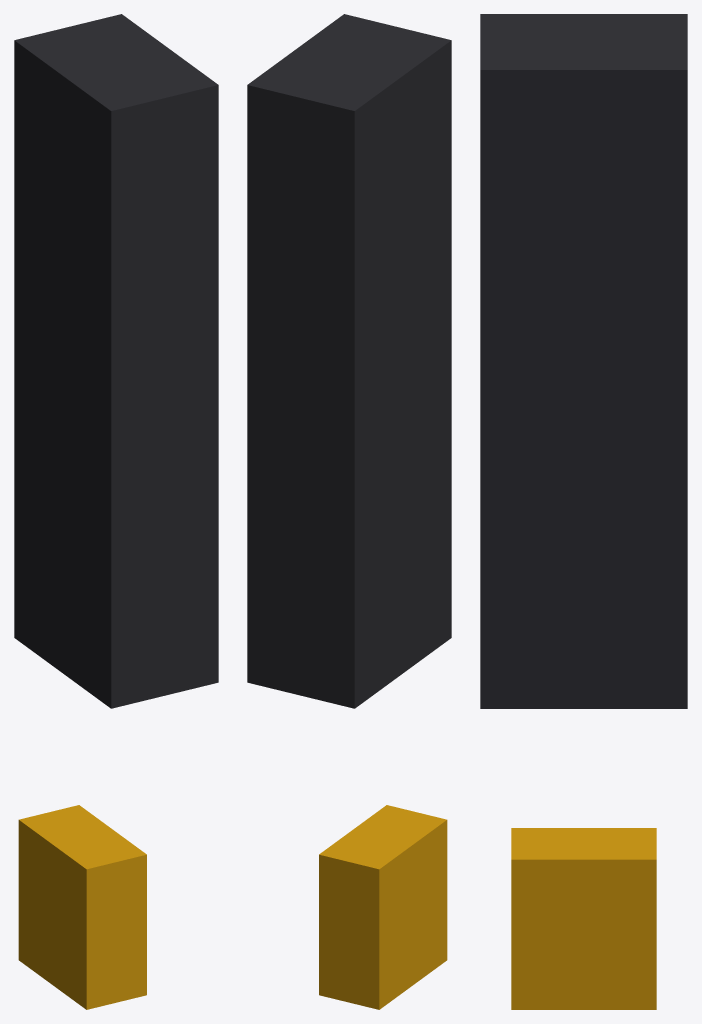
Rendered from gripper_finger_left.obj.
3 views of the same model, side by side, from view 1: azimuth 30°, elevation 25°; view 2: azimuth 150°, elevation 25°; view 3: azimuth 270°, elevation 25° (orthographic). The views are drawn at different scales.
Parts seen in each view (by area): view 1: Export_Grip_L; view 2: Export_Grip_L; view 3: Export_Grip_L.
Part boxes in pixels (x1,y1,x2,y2): Export_Grip_L: (14,14,218,1009); Export_Grip_L: (247,14,451,1009); Export_Grip_L: (480,14,687,1009).
Bounding box in the file's own units: 0.035 × 0.258 × 0.05.
